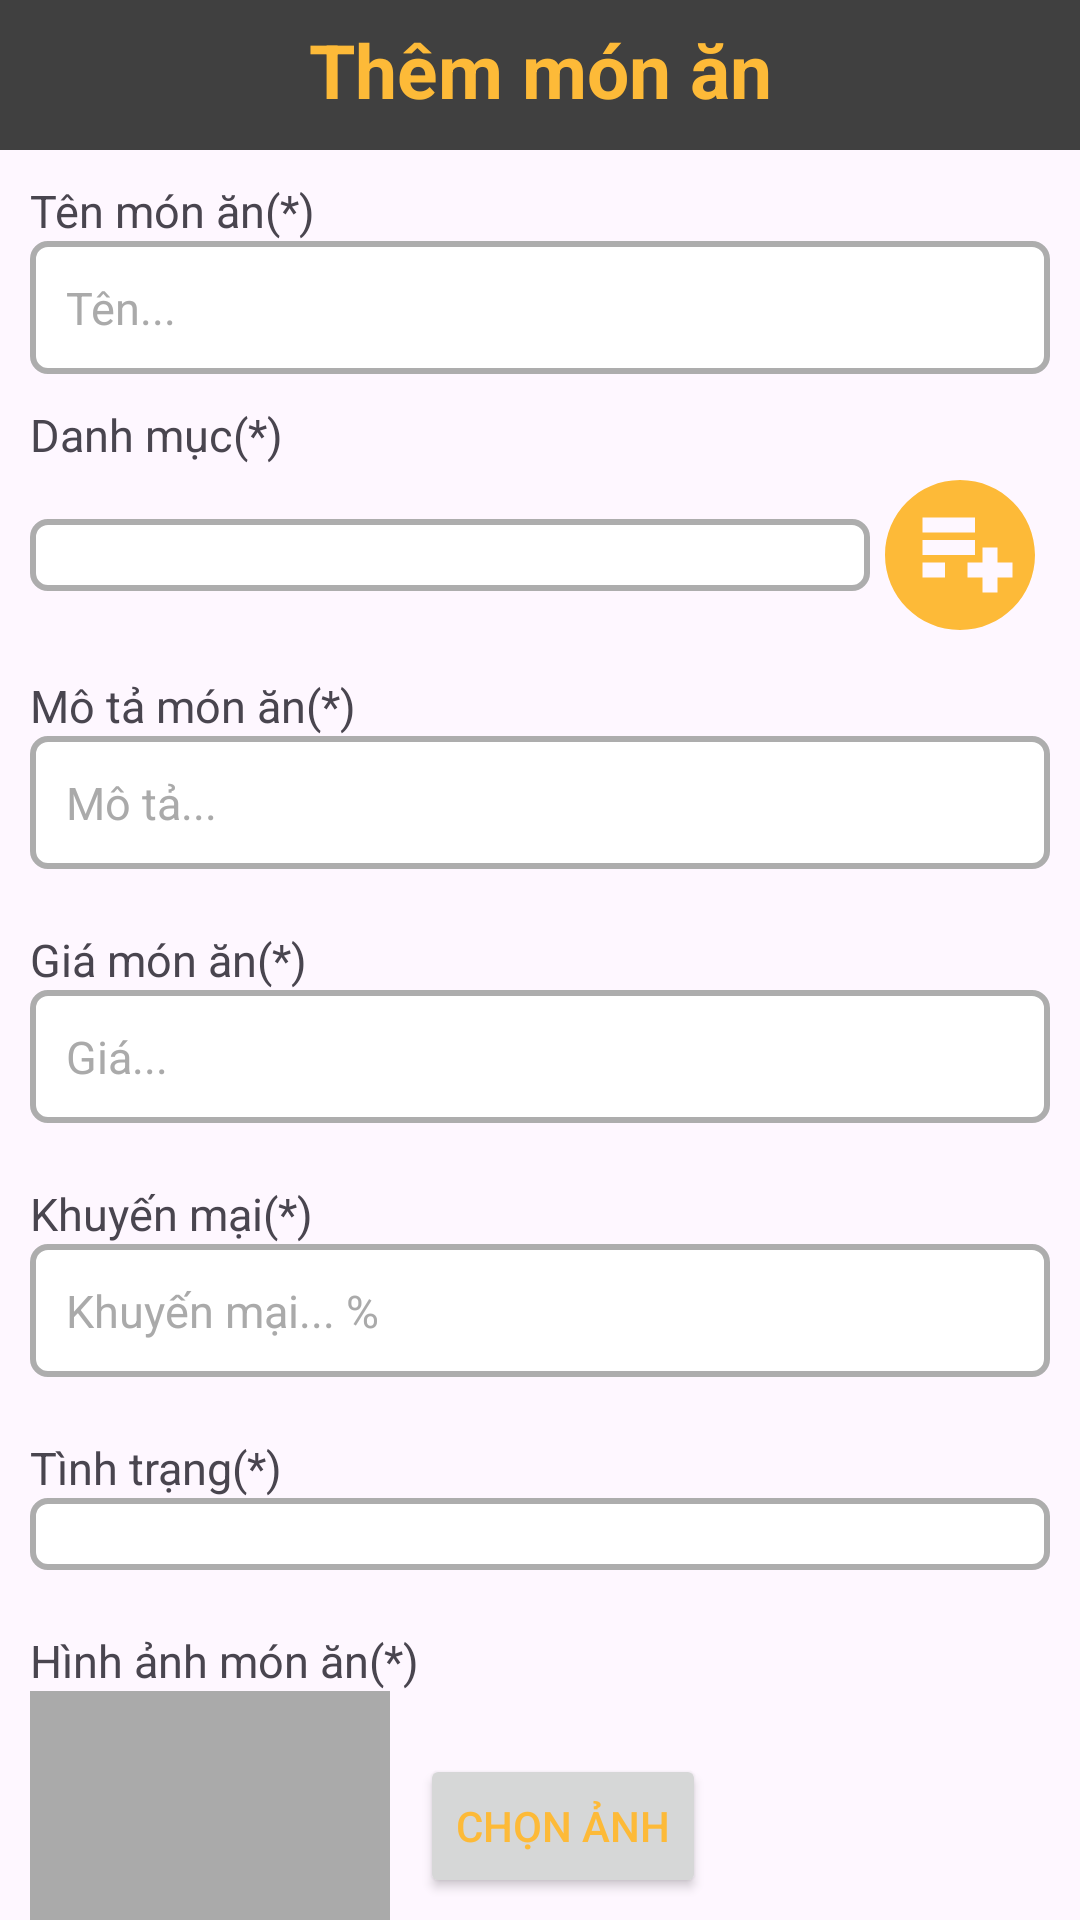

Icon click points for this 1080*1920 phone screenshot, format (x=x, y=y):
playlist add circle: (x=960, y=555)
